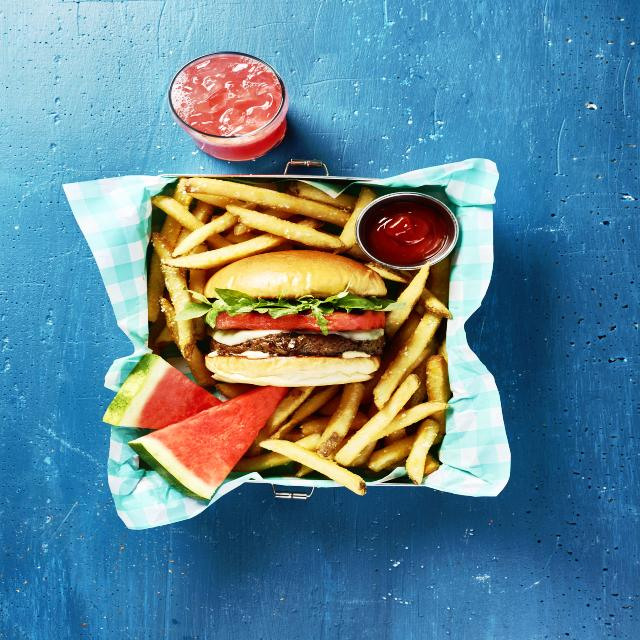burger: (178, 250, 403, 388)
drink: (165, 49, 292, 162)
french fries: (155, 179, 359, 244), (289, 388, 438, 469), (390, 272, 443, 475)
ketchup: (363, 193, 450, 268)
